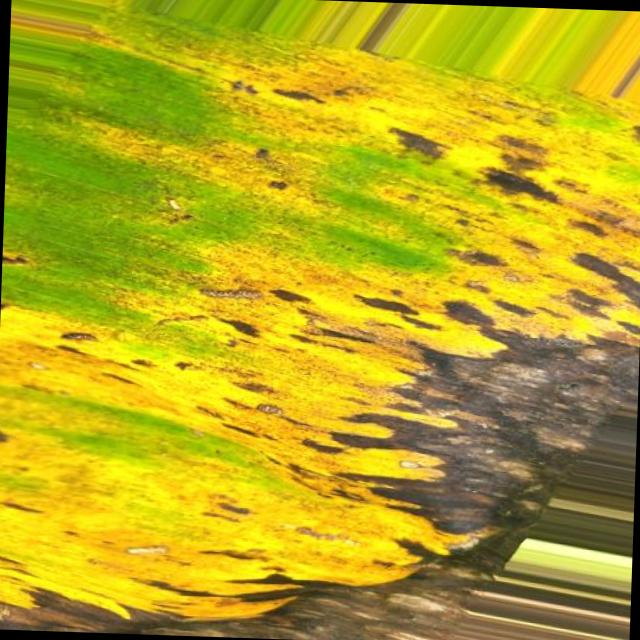Banana_Black_Sigatoka: (224, 41, 633, 621)
